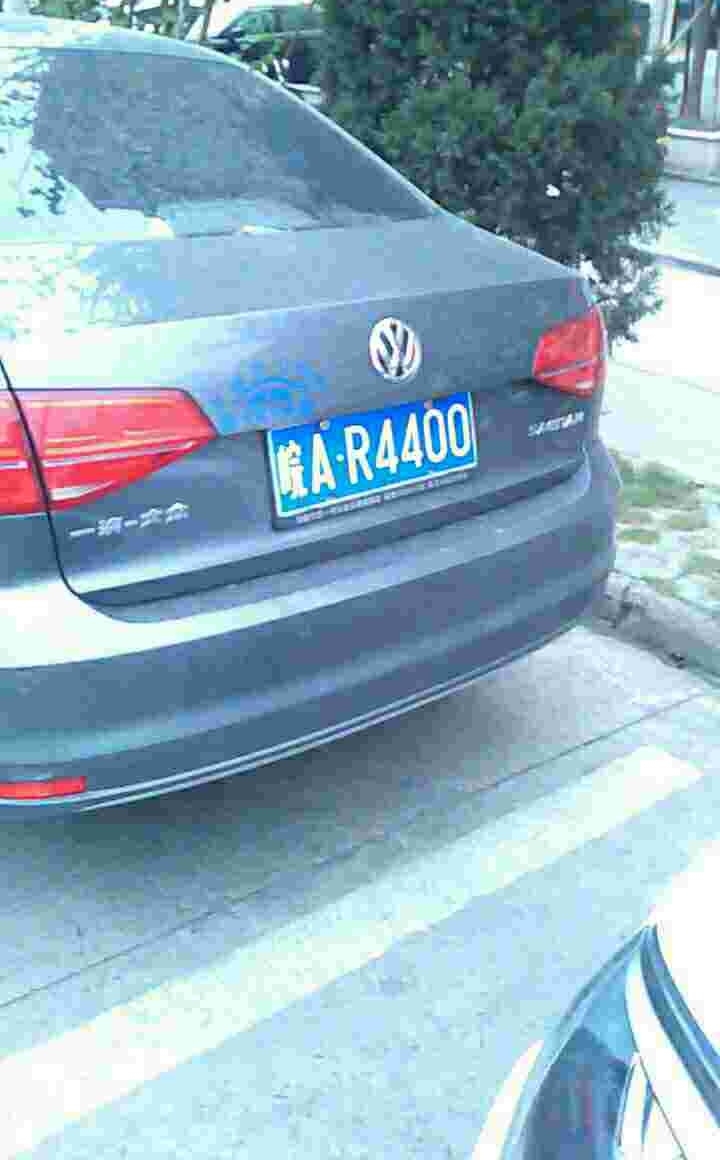license_plate: (285, 388, 466, 507)
